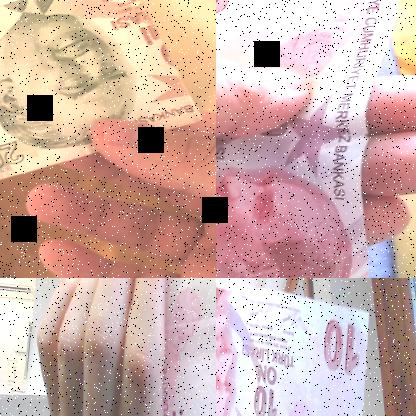5 TL: (0, 0, 205, 186)
